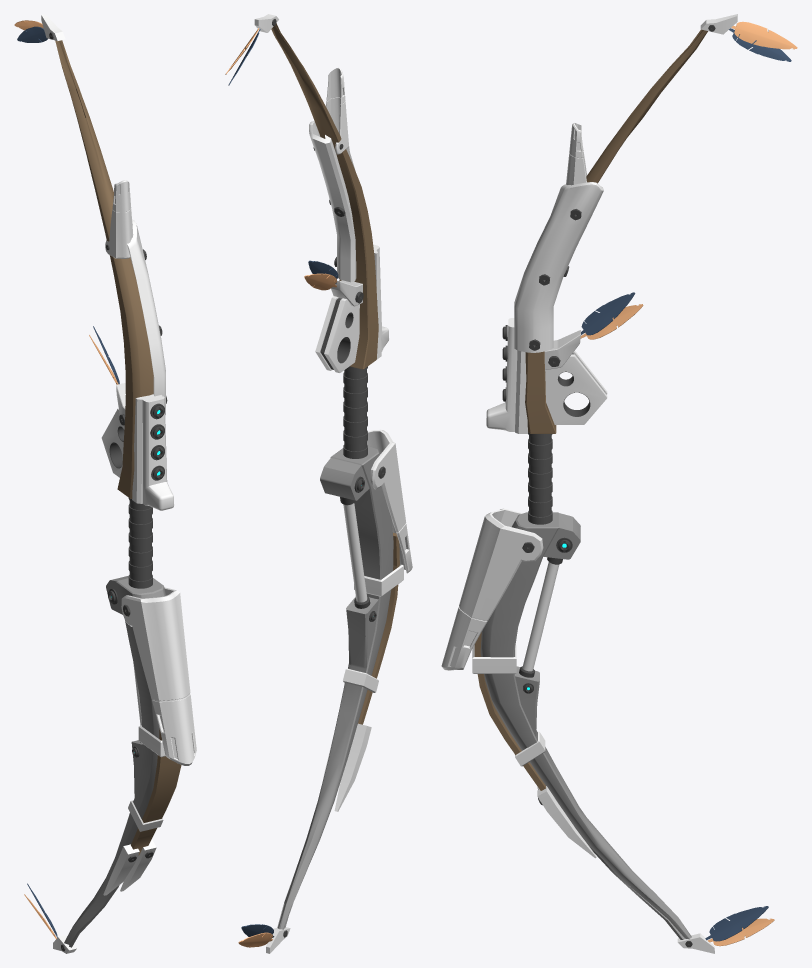
The model's file is ArcDonjon.fbx.
3 renders of one model, left to right at view 1: azimuth 30°, elevation 25°; view 2: azimuth 150°, elevation 25°; view 3: azimuth 270°, elevation 25°, orthographic.
Parts seen in each view (by area): view 1: Cube.024, Arc.002, Arc.001, Cube.031, Cube.032, Arc, Cube.025, Cube.033, Cube.029, Cube.026, Cube.027, Torus.001; view 2: Arc.001, Arc.002, Cube.032, Cube.024, Cube.029, Arc, Cylinder.008, Cube.033, Cube.026, Cube.025, Torus.001, Cube.031 (+3 smaller); view 3: Arc.001, Cube.032, Cube.024, Arc.002, Cube.029, Cube.031, Arc, Cylinder.008, Cube.025, Plane.040, Plane.035, Cube.027 (+4 smaller).
Part boxes in pixels (x1,y1,x2,y2): Cube.024: [121, 587, 196, 765]; Arc.002: [55, 40, 153, 498]; Arc.001: [64, 575, 165, 947]; Cube.031: [132, 394, 173, 510]; Cube.032: [127, 219, 165, 414]; Arc: [128, 498, 152, 588]; Cube.025: [131, 729, 181, 855]; Cube.033: [105, 180, 133, 258]; Cube.029: [101, 408, 124, 477]; Cube.026: [103, 844, 139, 895]; Cube.027: [120, 839, 156, 891]; Torus.001: [138, 725, 165, 757]; Arc.001: [277, 445, 393, 929]; Arc.002: [271, 23, 378, 369]; Cube.032: [309, 121, 356, 282]; Cube.024: [367, 429, 412, 573]; Cube.029: [315, 296, 359, 372]; Arc: [343, 366, 367, 458]; Cylinder.008: [340, 497, 370, 608]; Cube.033: [326, 67, 348, 154]; Cube.026: [334, 723, 371, 811]; Cube.025: [358, 532, 399, 724]; Torus.001: [354, 564, 403, 596]; Cube.031: [373, 244, 388, 359]; Arc.001: [480, 512, 691, 939]; Cube.032: [514, 182, 603, 352]; Cube.024: [441, 508, 543, 670]; Arc.002: [525, 29, 707, 433]; Cube.029: [545, 350, 607, 424]; Cube.031: [486, 318, 527, 433]; Arc: [528, 432, 552, 524]; Cylinder.008: [519, 557, 562, 677]; Cube.025: [474, 632, 545, 790]; Plane.040: [731, 21, 797, 49]; Plane.035: [705, 906, 768, 941]; Cube.027: [537, 786, 596, 858].
Size of the model in its own units: 15.29 by 316 by 109.
